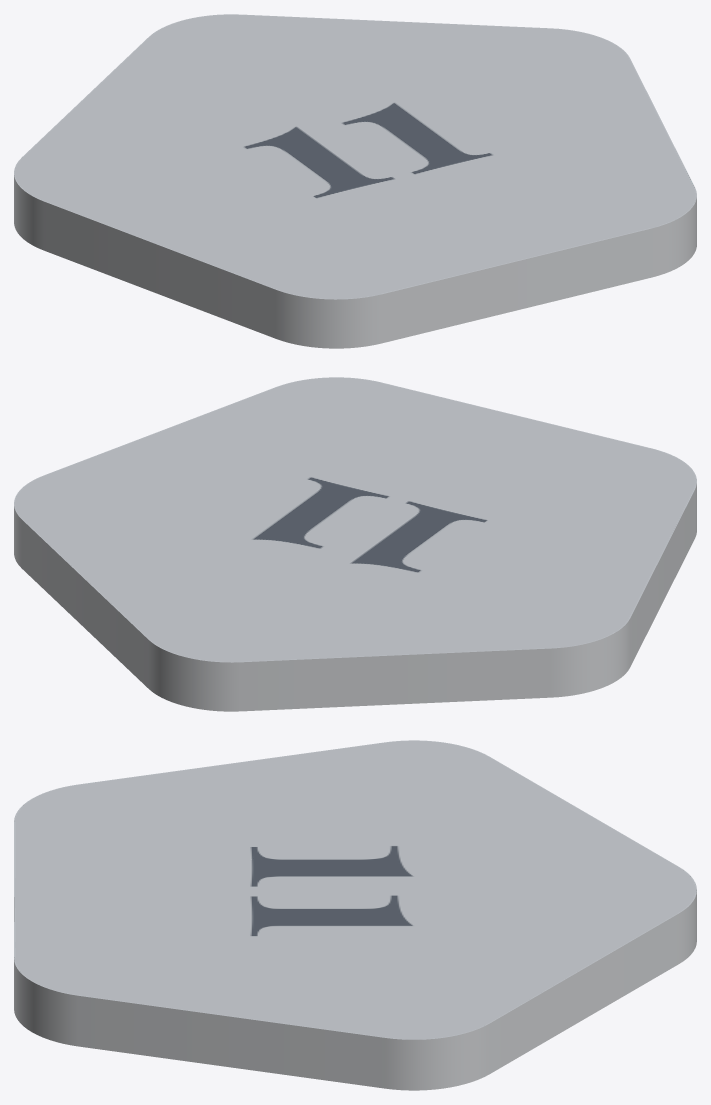
File: pen_11.glb
3 views of the same model, one above another, from view 1: azimuth 30°, elevation 25°; view 2: azimuth 150°, elevation 25°; view 3: azimuth 270°, elevation 25° (orthographic). The views are drawn at different scales.
Visible parts, largest first — view 1: pen_11; view 2: pen_11; view 3: pen_11.
Boxes of the visible parts, <box> form: pen_11: <box>14,14,696,348</box>; pen_11: <box>14,377,696,711</box>; pen_11: <box>14,740,696,1090</box>.
Bounding box in the file's own units: 0.0304 × 0.0024 × 0.0293.
3 materials, 2 textured.
